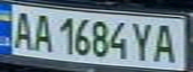1: (54, 13, 75, 55)
4: (109, 19, 130, 61)
6: (72, 16, 93, 57)
8: (90, 18, 112, 58)
A: (151, 20, 184, 64), (6, 8, 36, 51), (30, 10, 54, 52)
Y: (130, 19, 157, 62)
